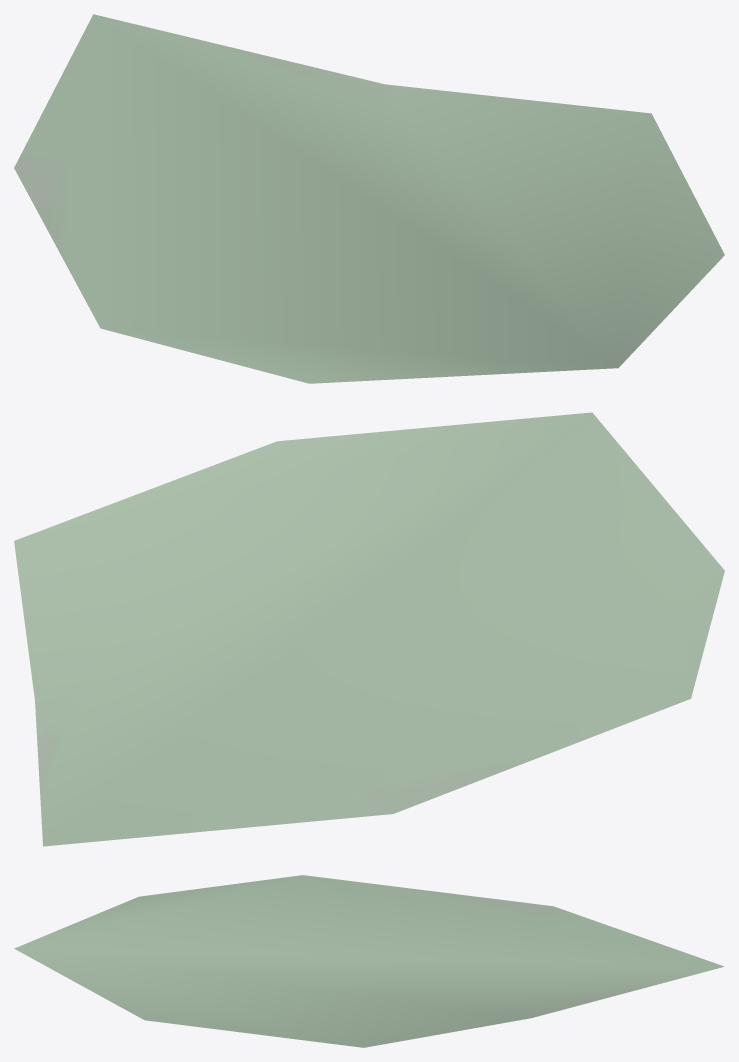
File: TROLLHOLE02_HOLECAP122.fbx
3 views of the same model, one above another, from view 1: azimuth 30°, elevation 25°; view 2: azimuth 150°, elevation 25°; view 3: azimuth 270°, elevation 25° (orthographic). The views are drawn at different scales.
Visible parts, largest first — view 1: TROLLHOLE02_HOLECAP122; view 2: TROLLHOLE02_HOLECAP122; view 3: TROLLHOLE02_HOLECAP122.
Boxes of the visible parts, x1,y1,x2,y2 form: TROLLHOLE02_HOLECAP122: (14, 14, 724, 383); TROLLHOLE02_HOLECAP122: (14, 412, 724, 846); TROLLHOLE02_HOLECAP122: (14, 875, 724, 1047).
Bounding box in the file's own units: 14400 × 949 × 21868.
1 material, 1 textured.
